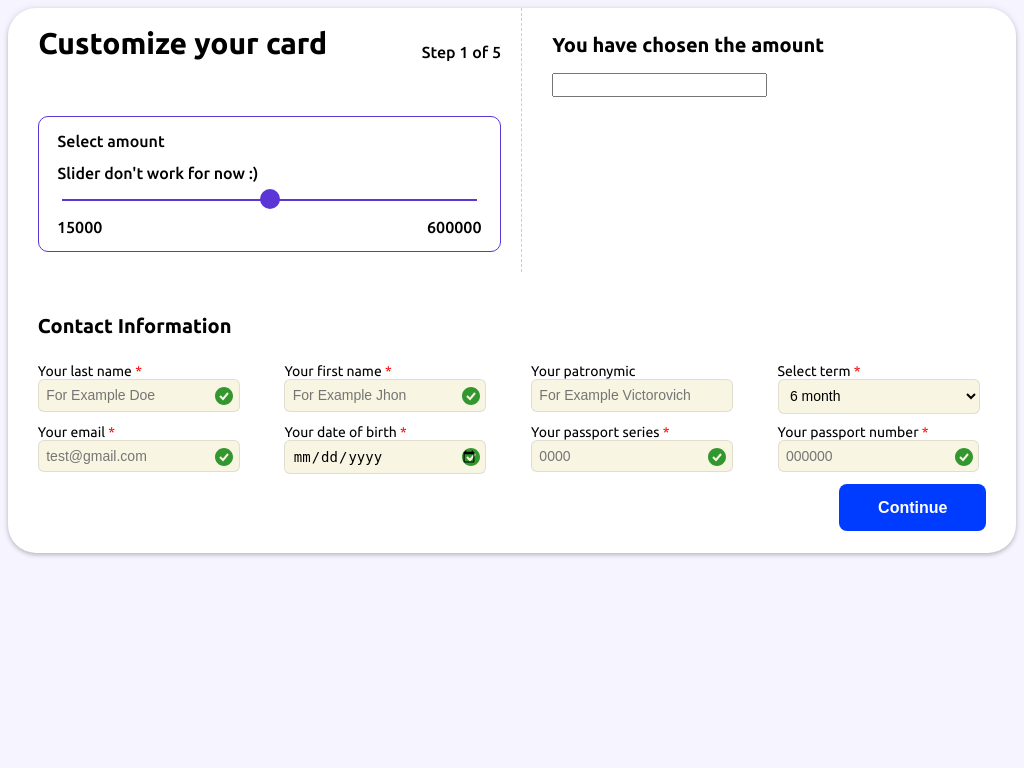
it: Form component › with invalid amount › renders the amount validation error
This screenshot has width=1024, height=768.
Type "123" into the field labelled "You have chosen the amount" at (660, 85), box [552,73,767,97]
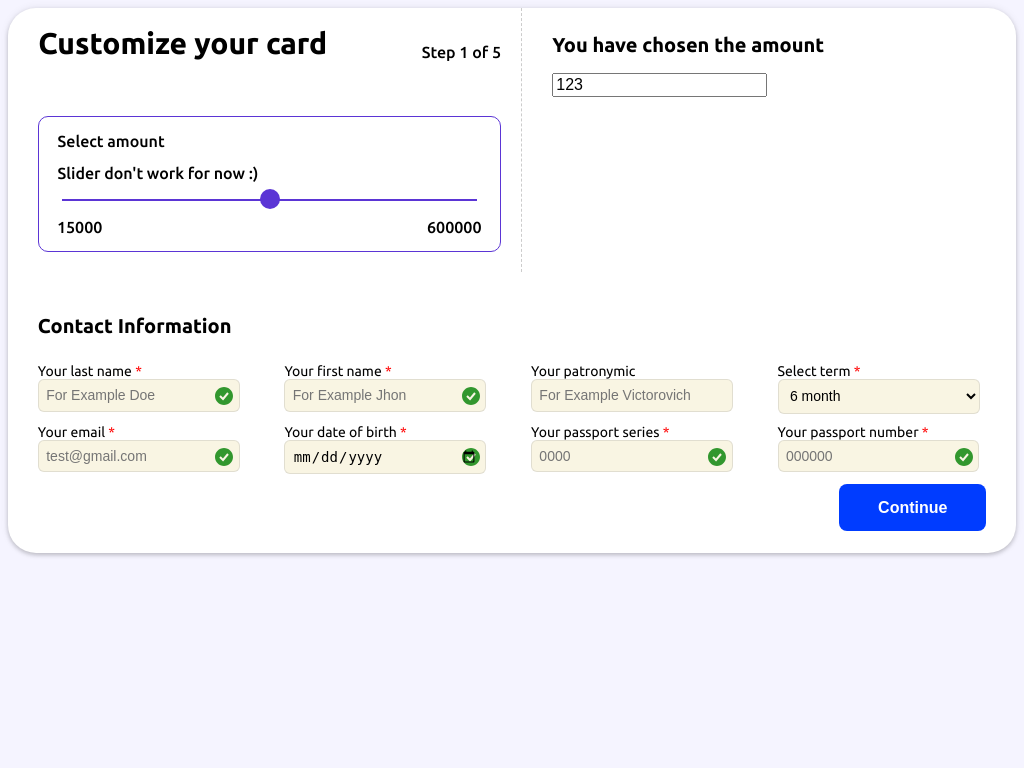
Leave the field labelled "You have chosen the amount", box [552,73,767,97]
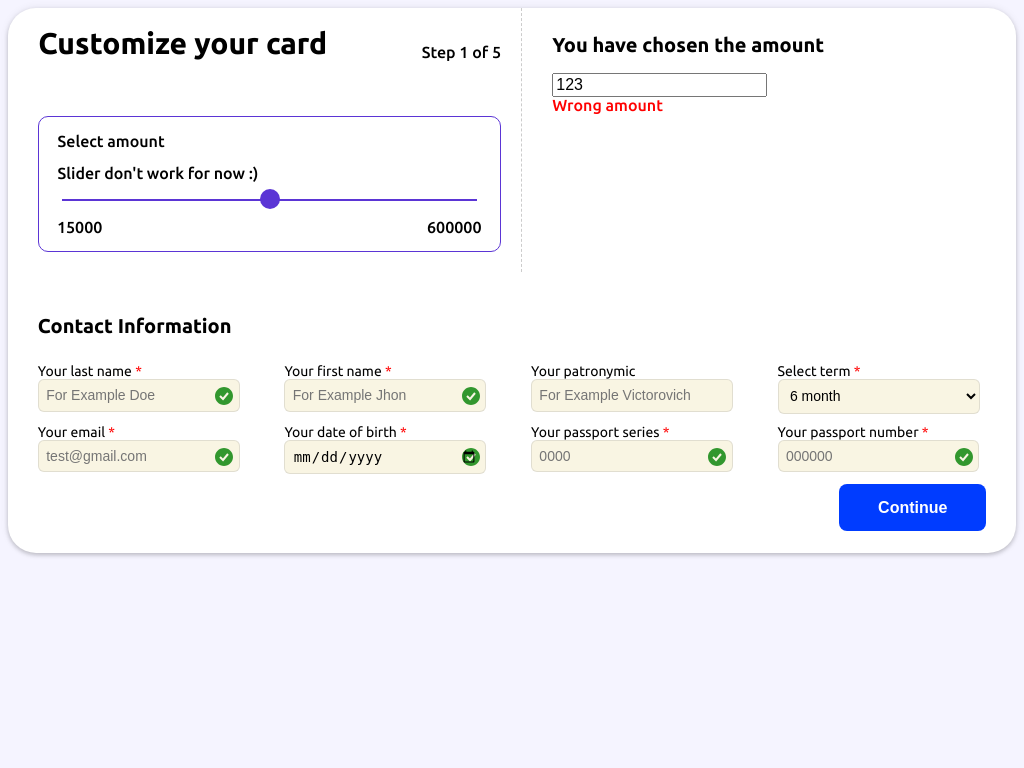
Expected: the text "Wrong amount" is shown, [552,96,663,114]
